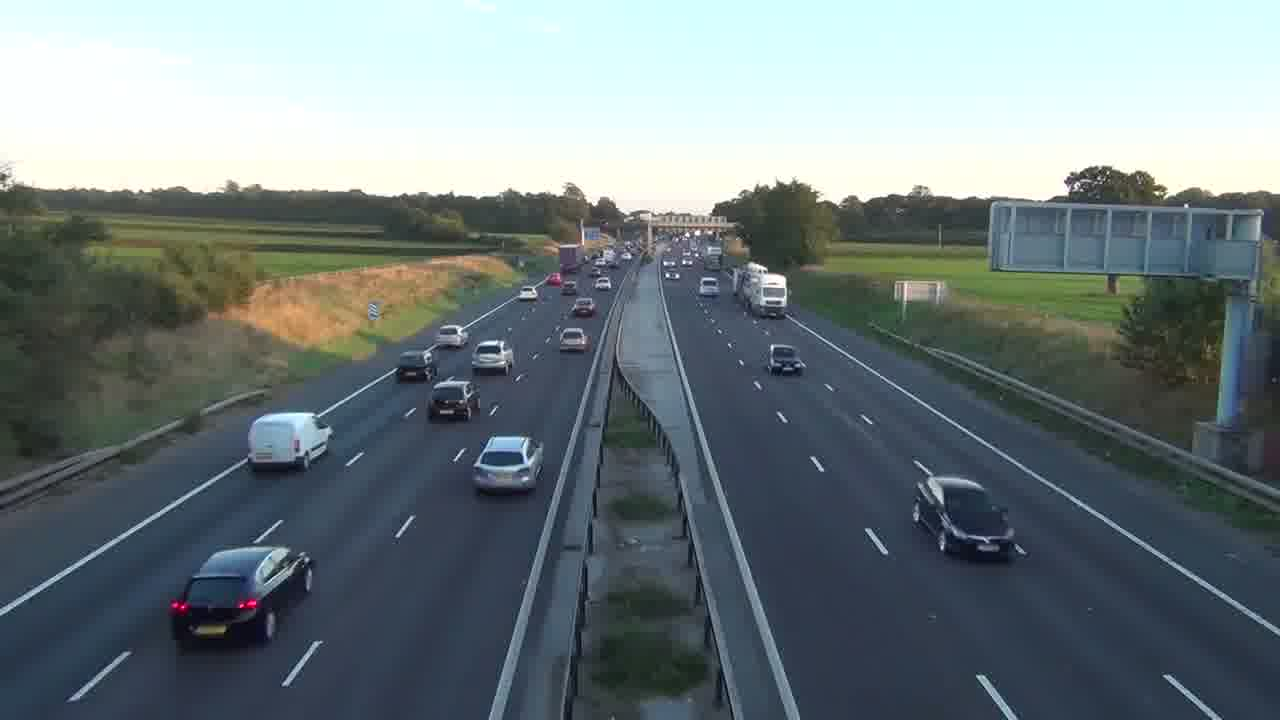car: (167, 544, 315, 644), (471, 434, 545, 496), (428, 378, 481, 422), (396, 349, 436, 383), (472, 340, 512, 374), (766, 344, 806, 375), (435, 324, 469, 350), (559, 326, 588, 353), (571, 297, 597, 318)
truck: (167, 544, 315, 644), (247, 410, 333, 473), (736, 266, 789, 318), (759, 274, 789, 318)
